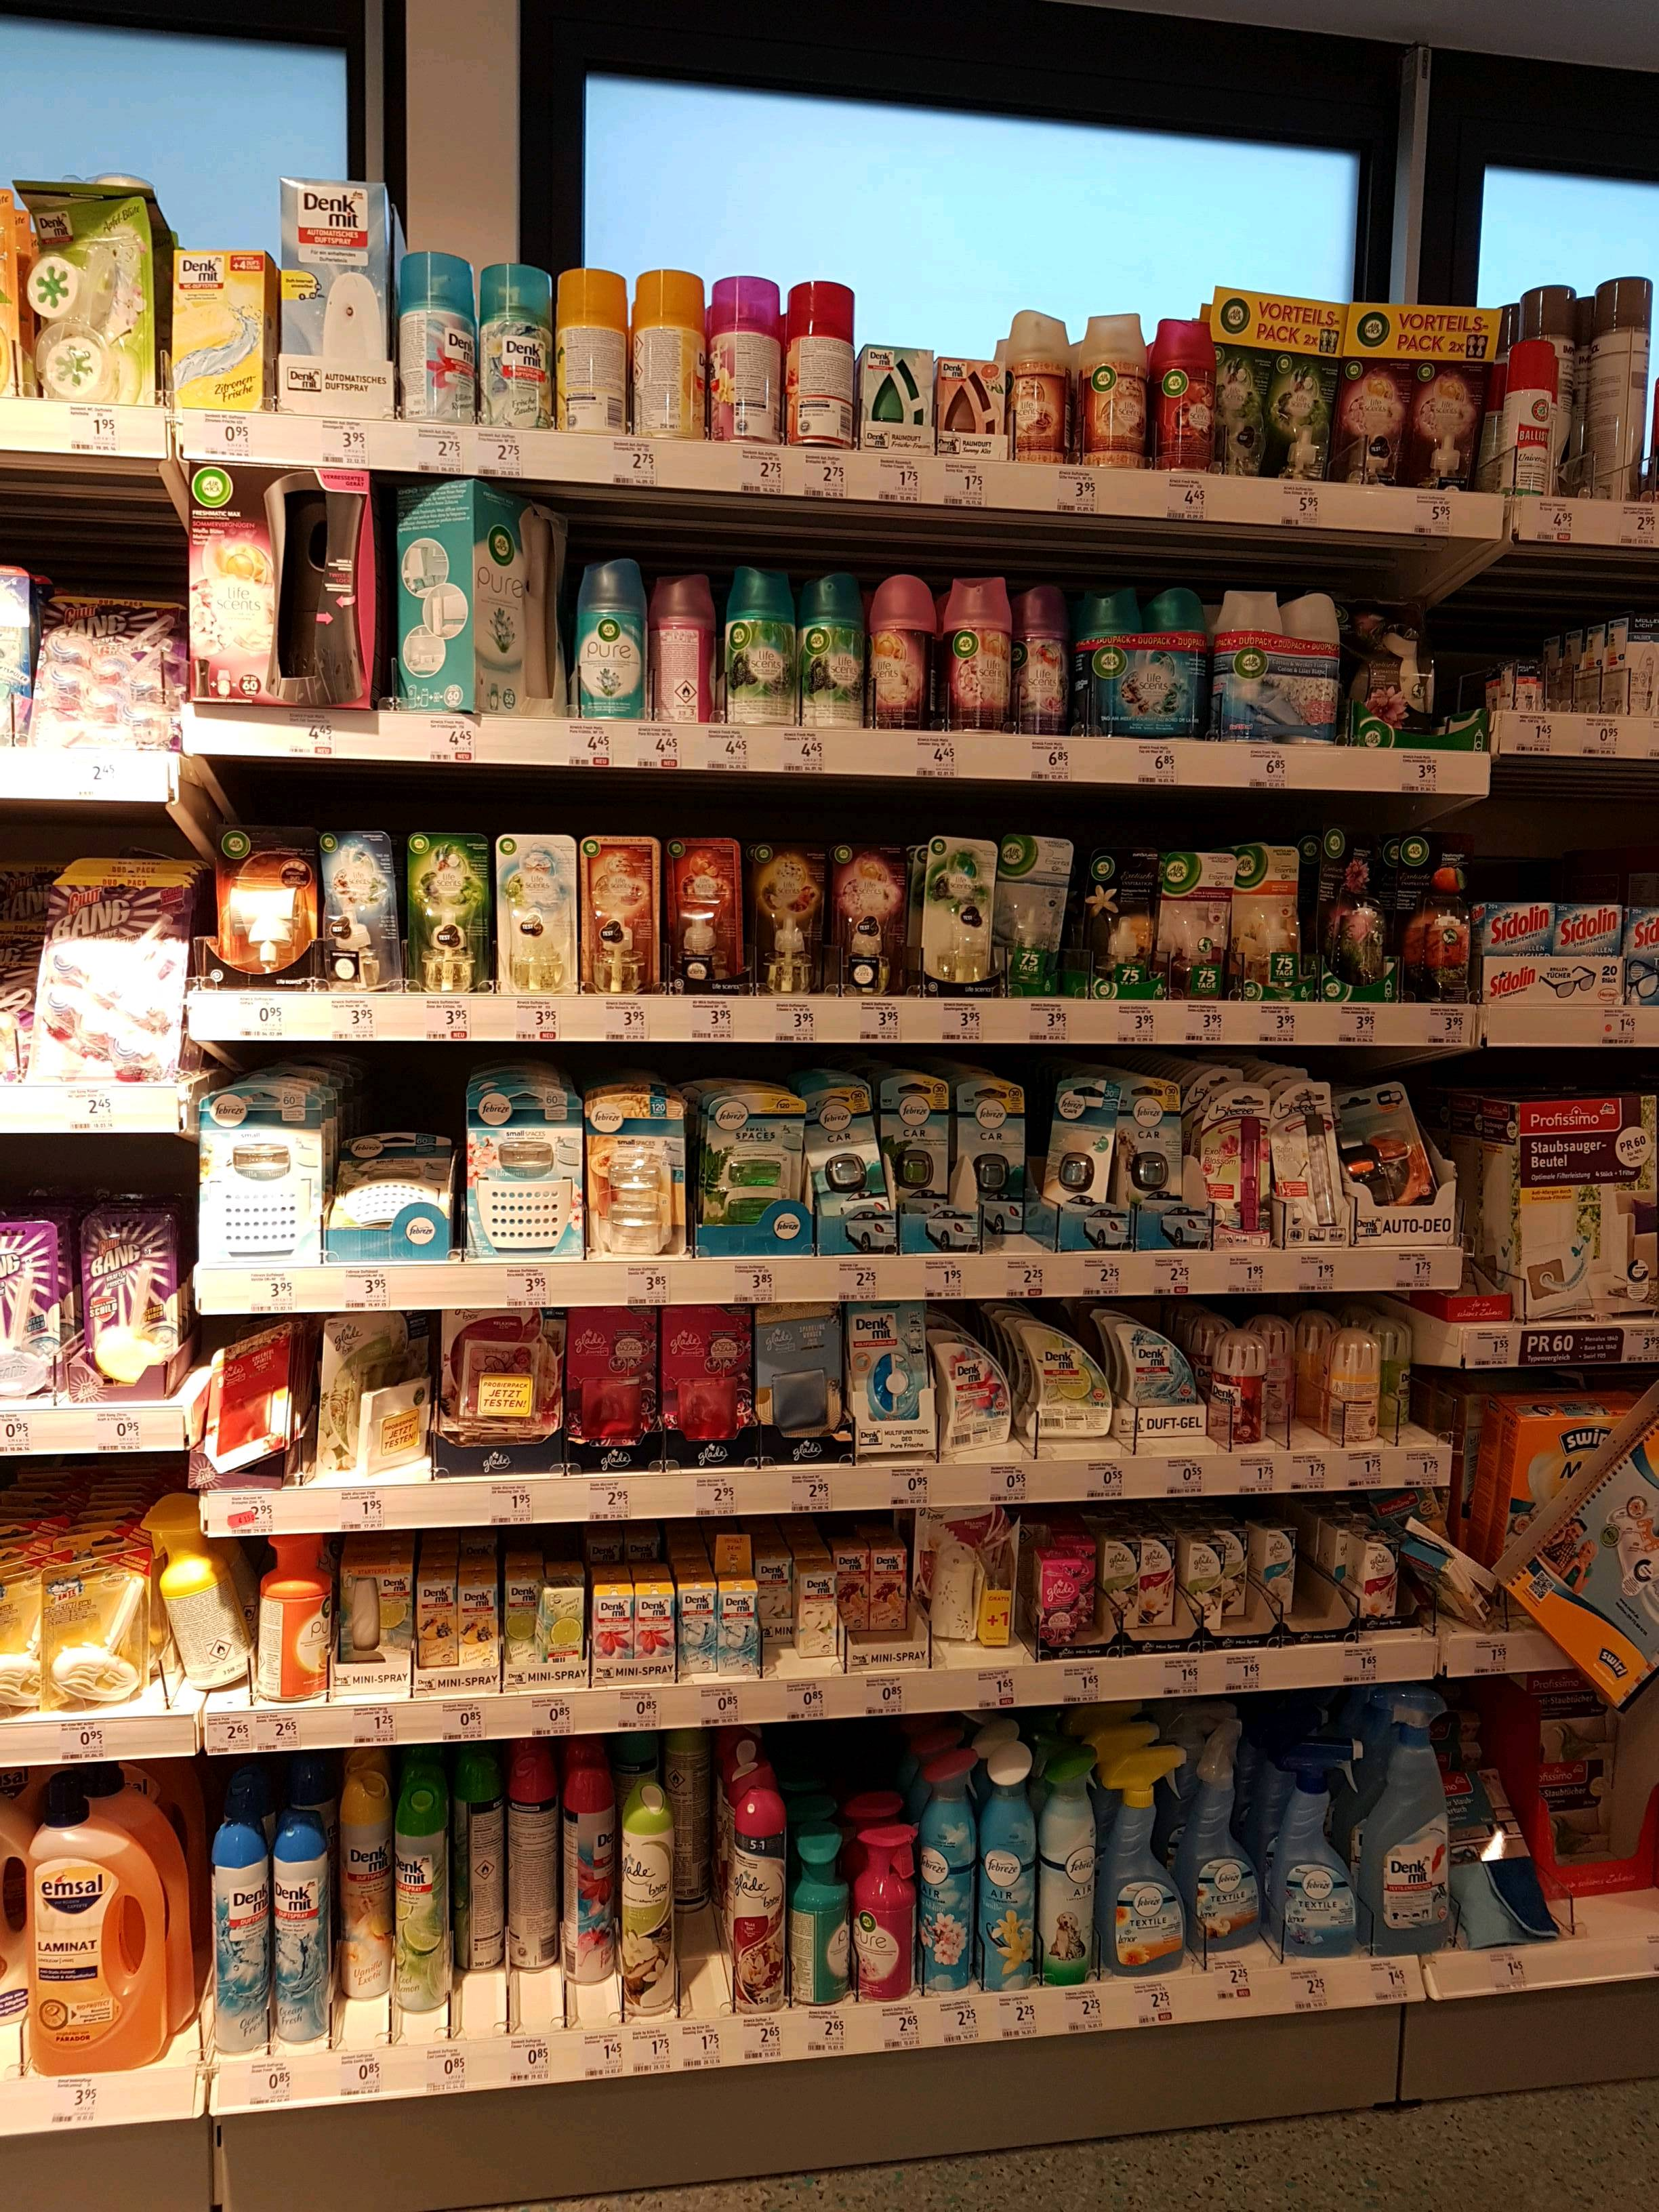Misplacement: (396, 1780, 444, 2045)
